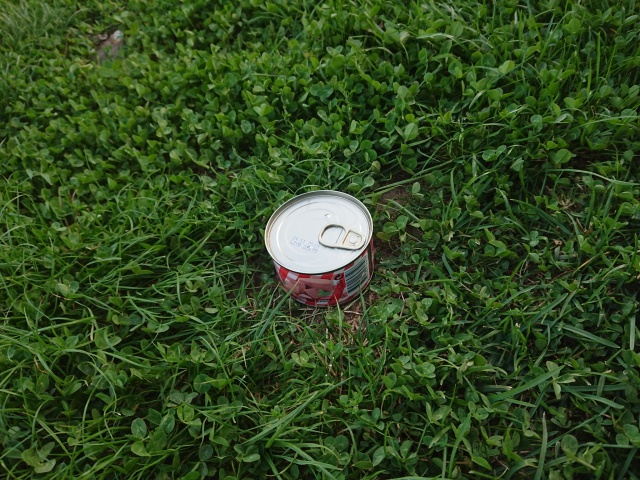Podravka Luncheon Meat 150g: (262, 187, 379, 311)
